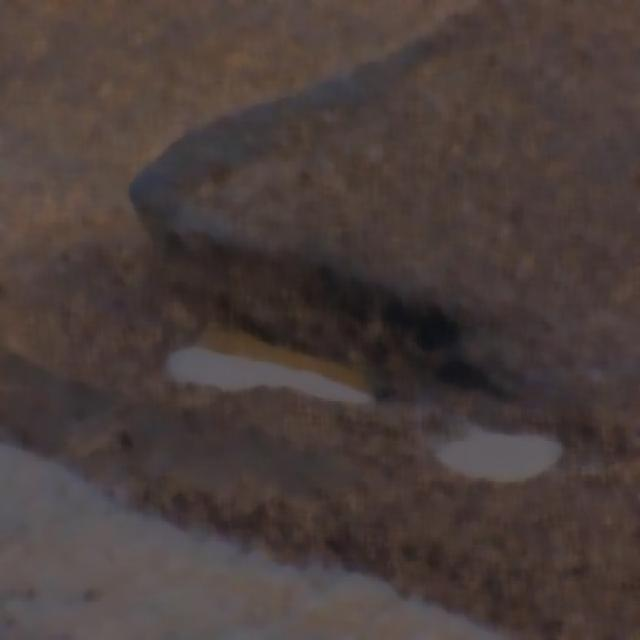Pothole: (175, 305, 378, 406), (418, 398, 564, 472)
